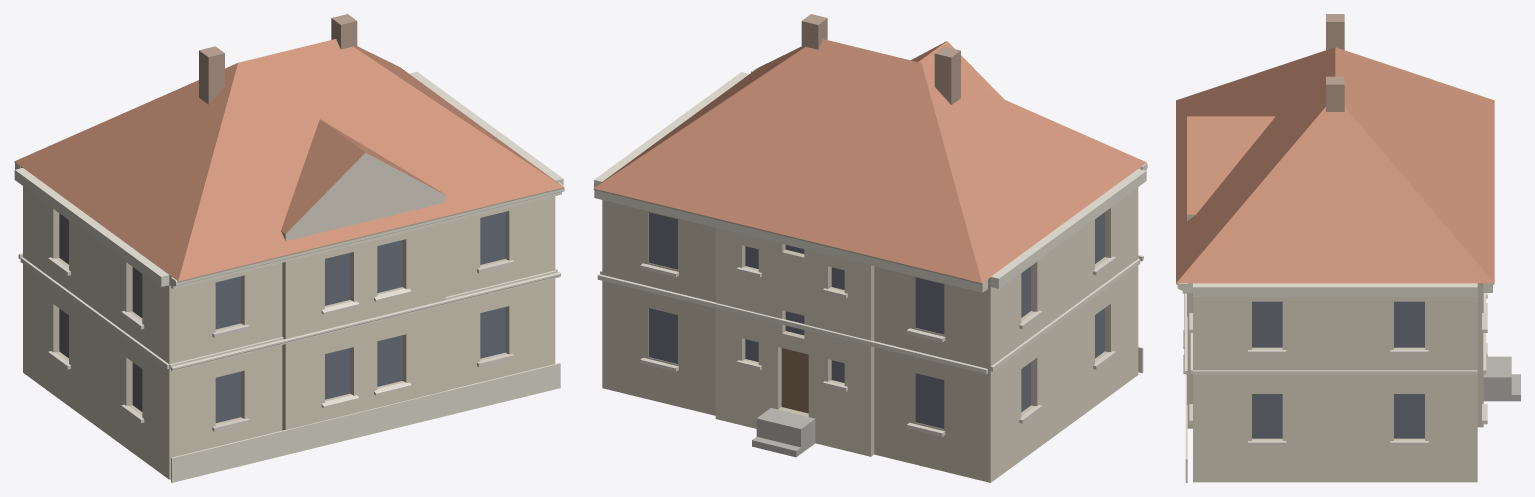
3 views of the same model, side by side, from view 1: azimuth 30°, elevation 25°; view 2: azimuth 150°, elevation 25°; view 3: azimuth 270°, elevation 25° (orthographic). The views are drawn at different scales.
Parts seen in each view (by area): view 1: CP_1425_Masonry, CP_1425_Roof, CP_1425_Dormer_P, CP_1425_Cornice_plinth_0, CP_1425_Cornice_side_NE_main, CP_1425_Cornice_main_0, CP_1425_Cornice_string_0, CP_1425_Cornice_side_SW_main, CP_1425_Chimney_0, CP_1425_Cornice_side_NE_string, CP_1425_Chimney_1, CP_1425_Roof_EaveClosure_0; view 2: CP_1425_Masonry, CP_1425_Roof, CP_1425_Cornice_rear_main, CP_1425_Cornice_side_NE_main, CP_1425_Cornice_rear_string, CP_1425_Stair_0, CP_1425_Cornice_side_SW_main, CP_1425_Chimney_0, CP_1425_Cornice_side_NE_string, CP_1425_Dormer_P, CP_1425_Chimney_1, CP_1425_Roof_EaveClosure_2; view 3: CP_1425_Roof, CP_1425_Masonry, CP_1425_Dormer_P, CP_1425_Cornice_side_SW_main, CP_1425_Cornice_side_SW_string, CP_1425_Stair_0, CP_1425_Chimney_1, CP_1425_Chimney_0.
Part boxes in pixels (x1,y1,x2,y2): CP_1425_Masonry: [23, 186, 555, 479]; CP_1425_Roof: [14, 39, 563, 281]; CP_1425_Dormer_P: [281, 119, 445, 240]; CP_1425_Cornice_plinth_0: [171, 363, 560, 482]; CP_1425_Cornice_side_NE_main: [14, 168, 169, 286]; CP_1425_Cornice_main_0: [171, 182, 564, 289]; CP_1425_Cornice_string_0: [171, 272, 561, 371]; CP_1425_Cornice_side_SW_main: [409, 71, 563, 185]; CP_1425_Chimney_0: [199, 46, 224, 104]; CP_1425_Cornice_side_NE_string: [20, 257, 169, 369]; CP_1425_Chimney_1: [331, 14, 357, 49]; CP_1425_Roof_EaveClosure_0: [177, 187, 563, 282]; CP_1425_Masonry: [602, 187, 1138, 482]; CP_1425_Roof: [593, 39, 1146, 282]; CP_1425_Cornice_rear_main: [594, 190, 987, 292]; CP_1425_Cornice_side_NE_main: [990, 169, 1146, 288]; CP_1425_Cornice_rear_string: [597, 274, 987, 374]; CP_1425_Stair_0: [756, 408, 815, 453]; CP_1425_Cornice_side_SW_main: [594, 72, 748, 187]; CP_1425_Chimney_0: [934, 46, 960, 104]; CP_1425_Cornice_side_NE_string: [990, 259, 1140, 371]; CP_1425_Dormer_P: [911, 41, 1004, 99]; CP_1425_Chimney_1: [801, 14, 827, 49]; CP_1425_Roof_EaveClosure_2: [610, 193, 990, 284]; CP_1425_Roof: [1176, 47, 1494, 283]; CP_1425_Masonry: [1187, 284, 1483, 482]; CP_1425_Dormer_P: [1187, 116, 1275, 220]; CP_1425_Cornice_side_SW_main: [1193, 283, 1477, 296]; CP_1425_Cornice_side_SW_string: [1193, 370, 1477, 375]; CP_1425_Stair_0: [1483, 356, 1511, 401]; CP_1425_Chimney_1: [1326, 76, 1344, 111]; CP_1425_Chimney_0: [1326, 14, 1344, 49].
Size of the model in its own units: 14.6 by 12 by 11.15.
